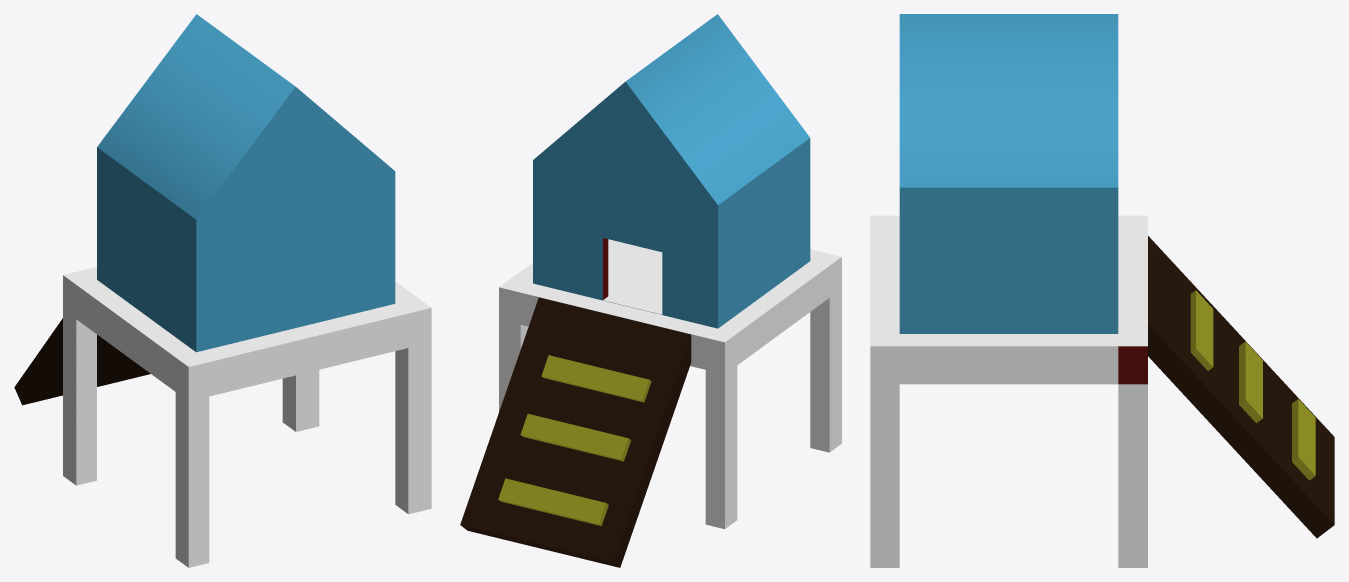
File: kurnik.fbx
3 renders of one model, left to right at view 1: azimuth 30°, elevation 25°; view 2: azimuth 150°, elevation 25°; view 3: azimuth 270°, elevation 25°, orthographic. The views are drawn at different scales.
Parts seen in each view (by area): view 1: kurnik (×2); view 2: kurnik (×5); view 3: kurnik (×5).
Part boxes in pixels (bbox=[...]): kurnik (×2): bbox=[14, 14, 431, 567]; kurnik (×5): bbox=[460, 14, 841, 567]; kurnik (×5): bbox=[870, 14, 1334, 567].
Bounding box in the file's own units: 17.49 × 30.43 × 26.23.
